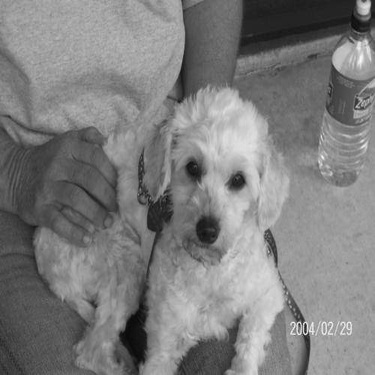dog: (21, 79, 303, 372)
